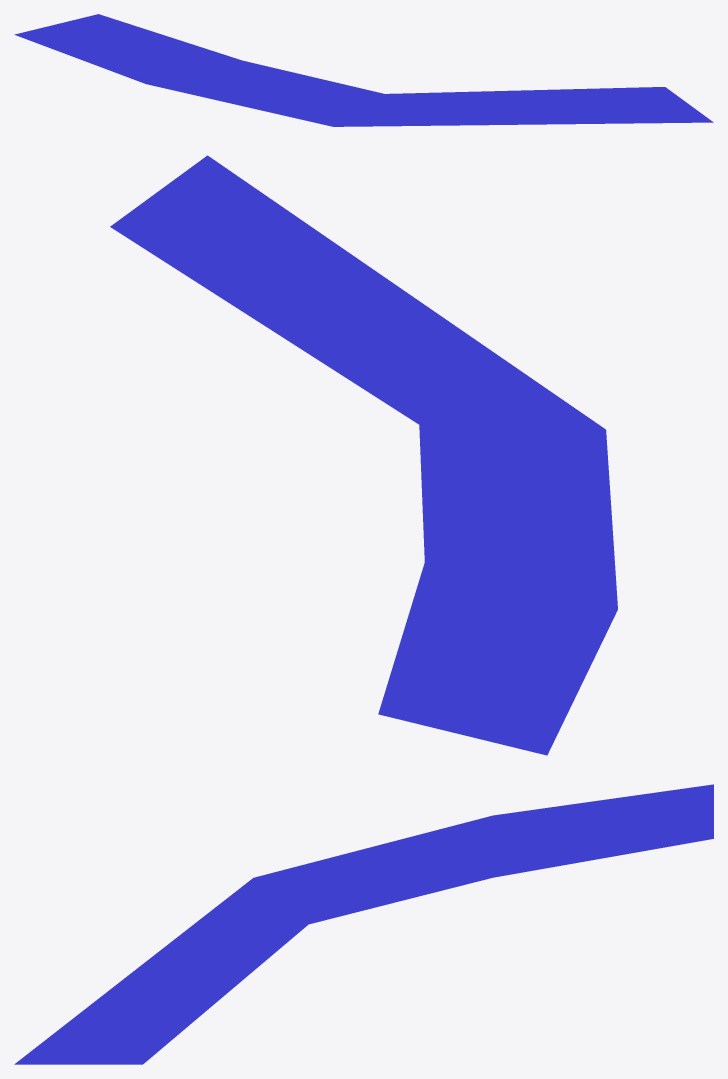
The model's file is water.fbx.
The picture shows the model from 3 angles, top to bottom: view 1: azimuth 30°, elevation 25°; view 2: azimuth 150°, elevation 25°; view 3: azimuth 270°, elevation 25°; orthographic projection. The views are drawn at different scales.
Parts seen in each view (by area): view 1: Wasserfluß; view 2: Wasserfluß; view 3: Wasserfluß.
Part boxes in pixels (left/top/right/bottom): Wasserfluß: left=14, top=14, right=713, bottom=126; Wasserfluß: left=110, top=155, right=617, bottom=755; Wasserfluß: left=14, top=784, right=713, bottom=1064.
Size of the model in its own units: 36 by 7.11e-08 by 38.
